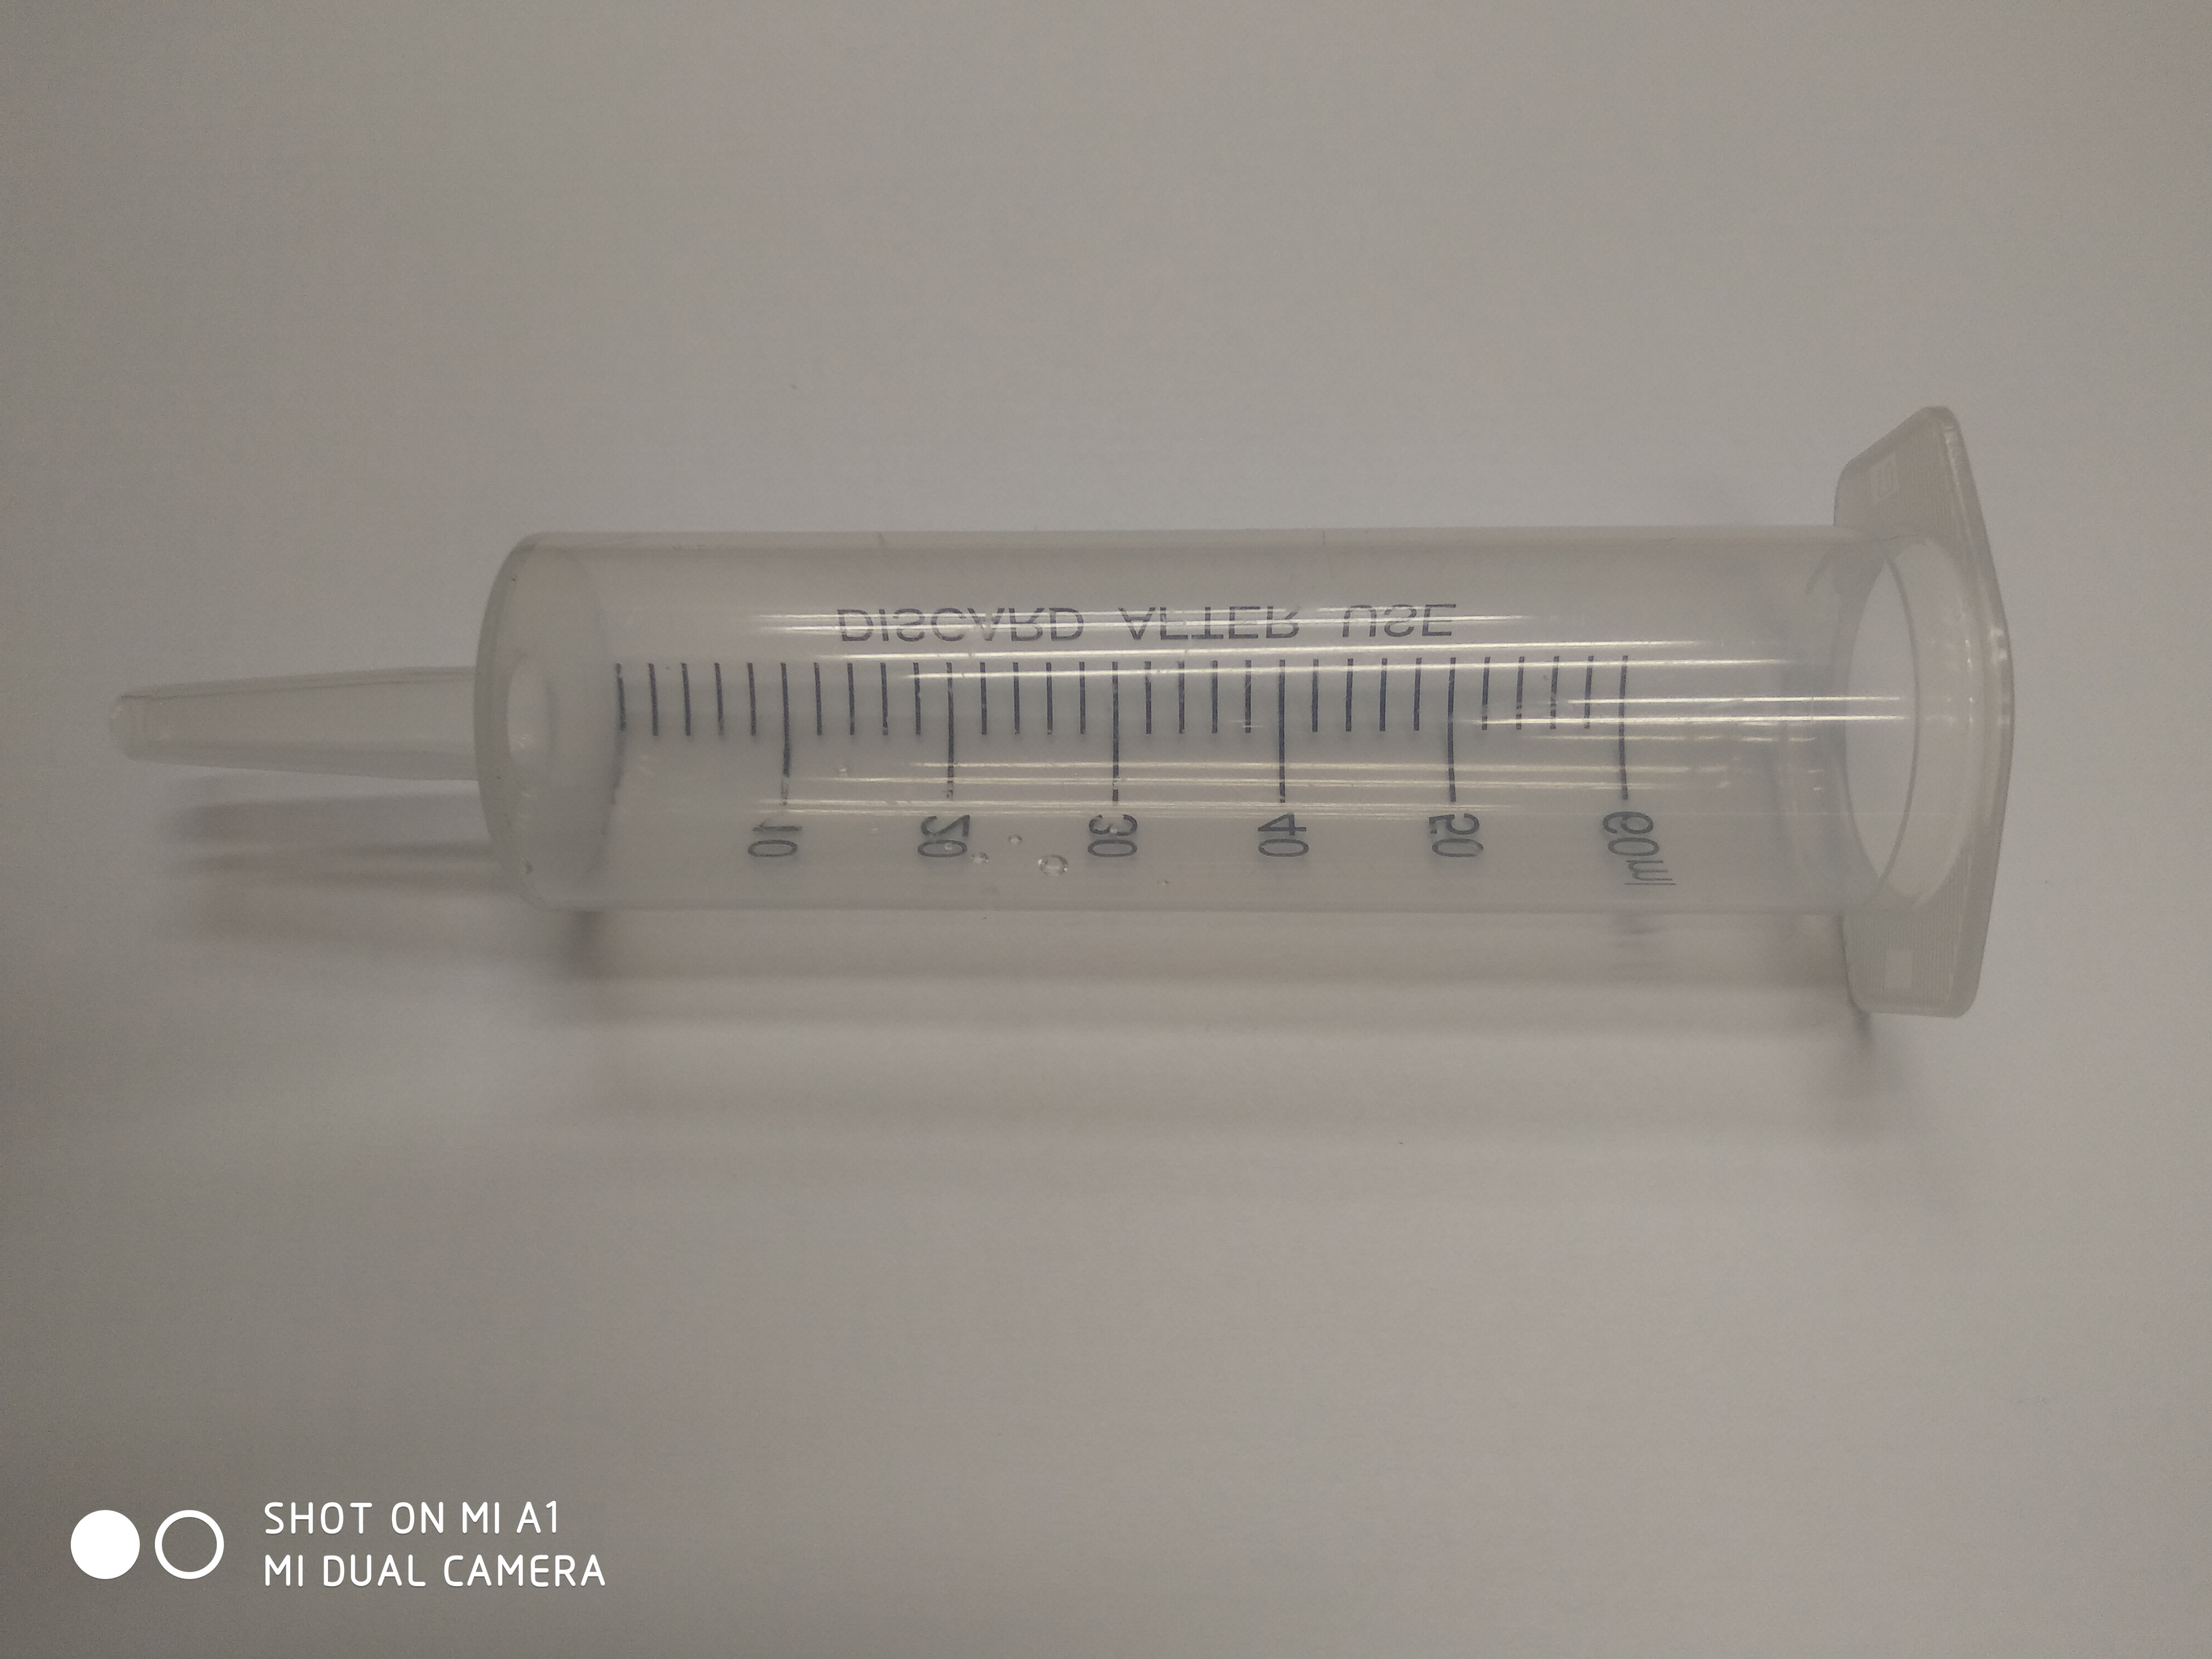syringe: (106, 406, 2036, 1030)
